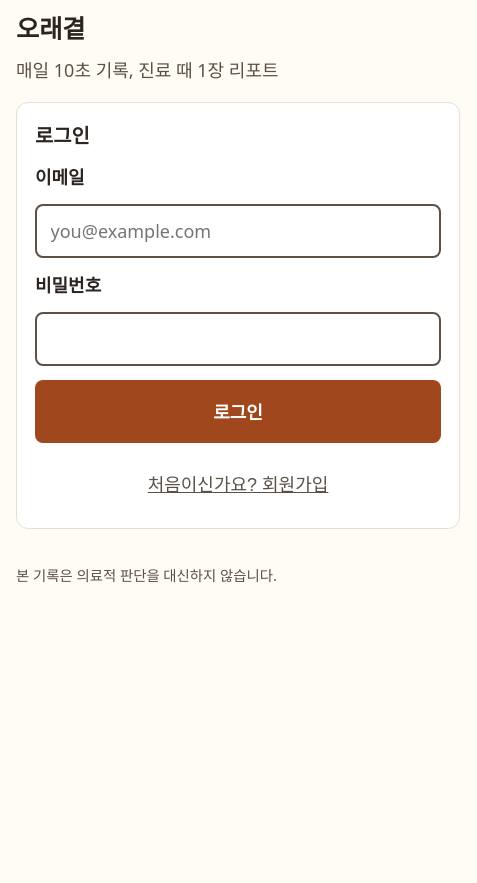
Test: 가입 화면 만 14세 확인 — QA 보강 › 체크 없이 비밀번호 확인 칸에서 Enter 를 눌러도 가입 요청이 나가지 않고 오류가 보인다
Click the button "처음이신가요? 회원가입": (238, 484) [35,456,441,510]
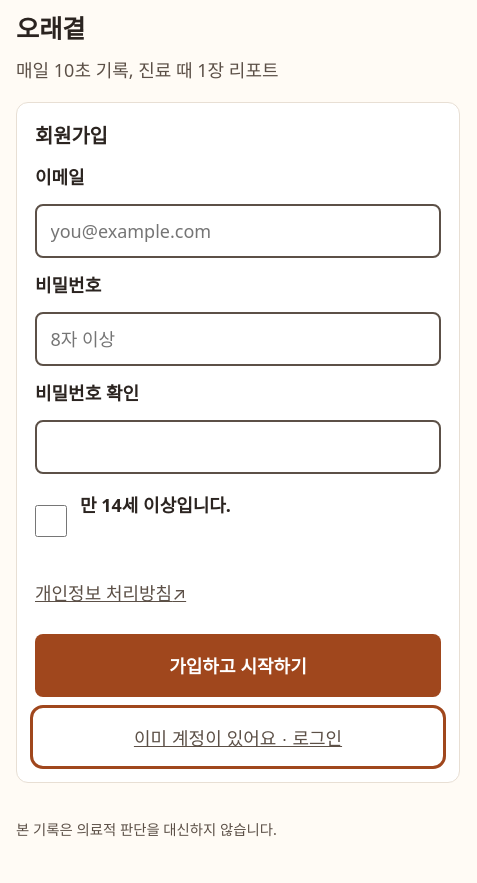
In the field labelled "이메일": (238, 232) [35,204,441,258], type "n@b.c"
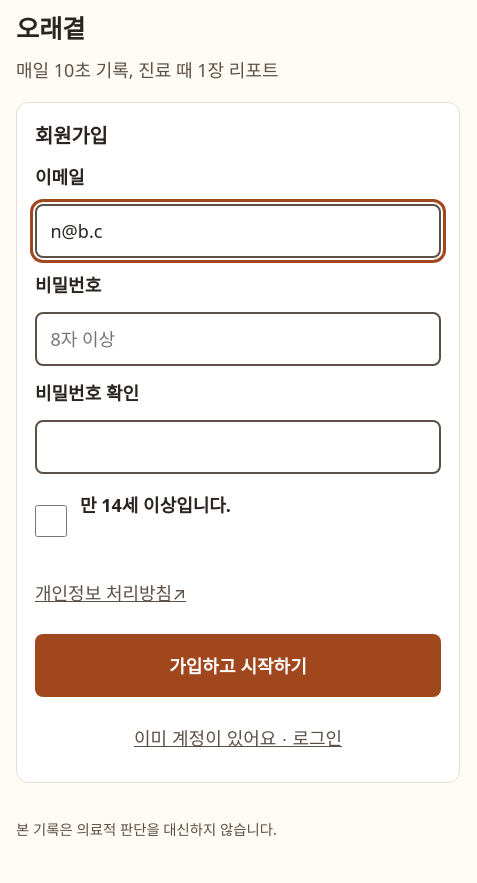
In the password field labelled "비밀번호": (238, 340) [35,312,441,366], type "pw123456"
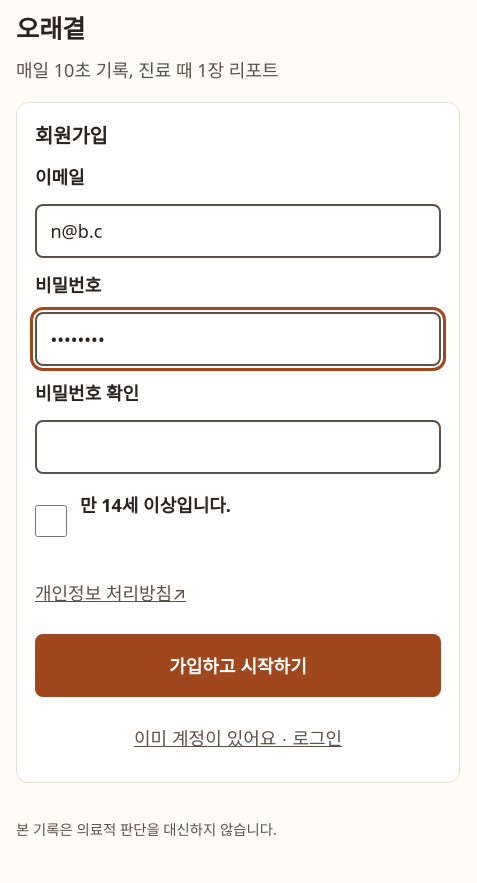
In the password field labelled "비밀번호 확인": (238, 448) [35,420,441,474], type "pw123456"
Then press Enter
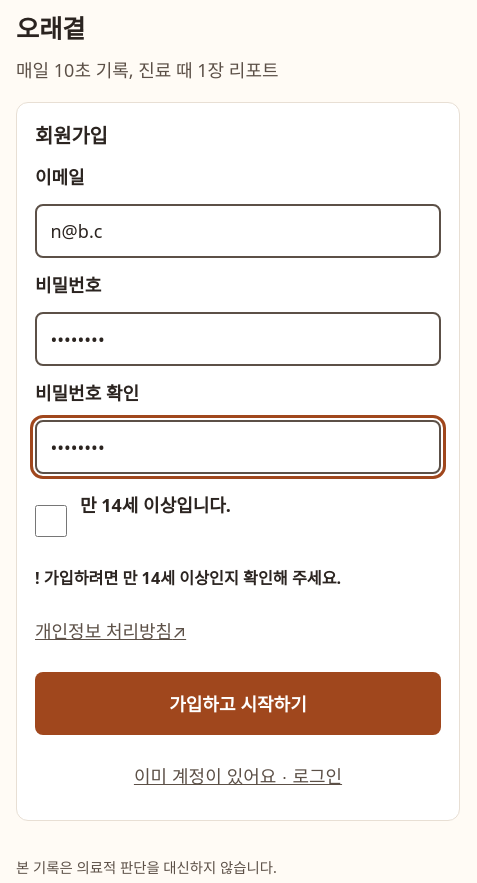
Result: the text "가입하려면 만 14세 이상인지 확인해 주세요." is shown at [44,567,341,589]
